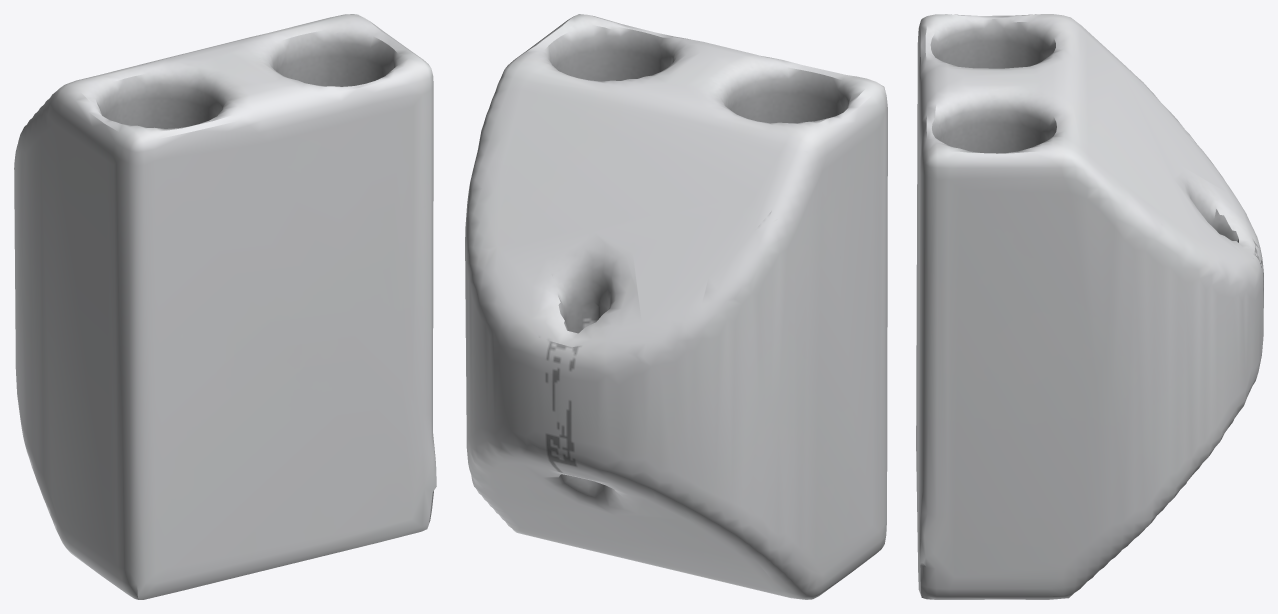
File: left_finger4_middle.glb
3 renders of one model, left to right at view 1: azimuth 30°, elevation 25°; view 2: azimuth 150°, elevation 25°; view 3: azimuth 270°, elevation 25°, orthographic. The views are drawn at different scales.
Parts seen in each view (by area): view 1: left_finger4_middle; view 2: left_finger4_middle; view 3: left_finger4_middle.
Boxes of the visible parts, x1,y1,x2,y2 form: left_finger4_middle: (14, 14, 436, 599); left_finger4_middle: (465, 14, 887, 599); left_finger4_middle: (916, 14, 1263, 599).
Bounding box in the file's own units: 0.0105 × 0.0151 × 0.0104.
Materials: 1 (1 with a texture image).
